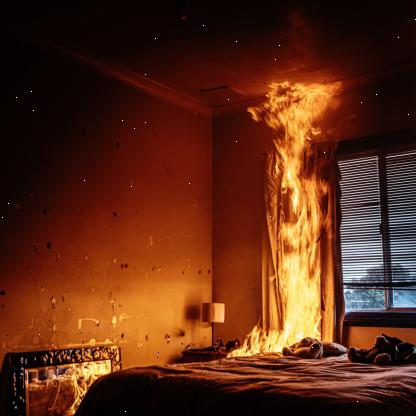fire: (227, 76, 345, 359), (36, 343, 129, 415)
